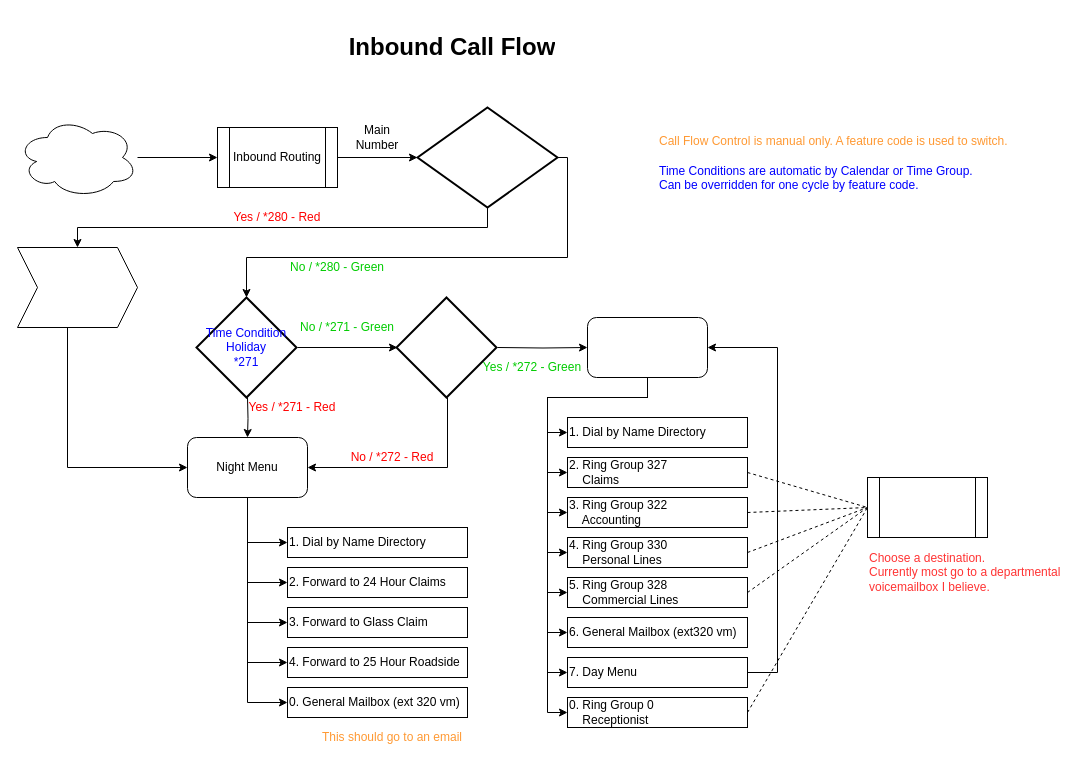
Some shapes in this 1085 by 764 pixel diagram are drawn without their labels. The shapes that lost their labels are listed below. From the top down, each one's centre as x and y in pixels, then its label:
At point 77,157: "PSTN - Inbound Call".
At point 487,157: "Call Flow Control Emergency Manual Override *280".
At point 77,287: "Special Announcement".
At point 446,347: "Time Condition Business Hours *272".
At point 647,347: "Day Menu".
At point 927,507: "Ring Group Not Answered".
